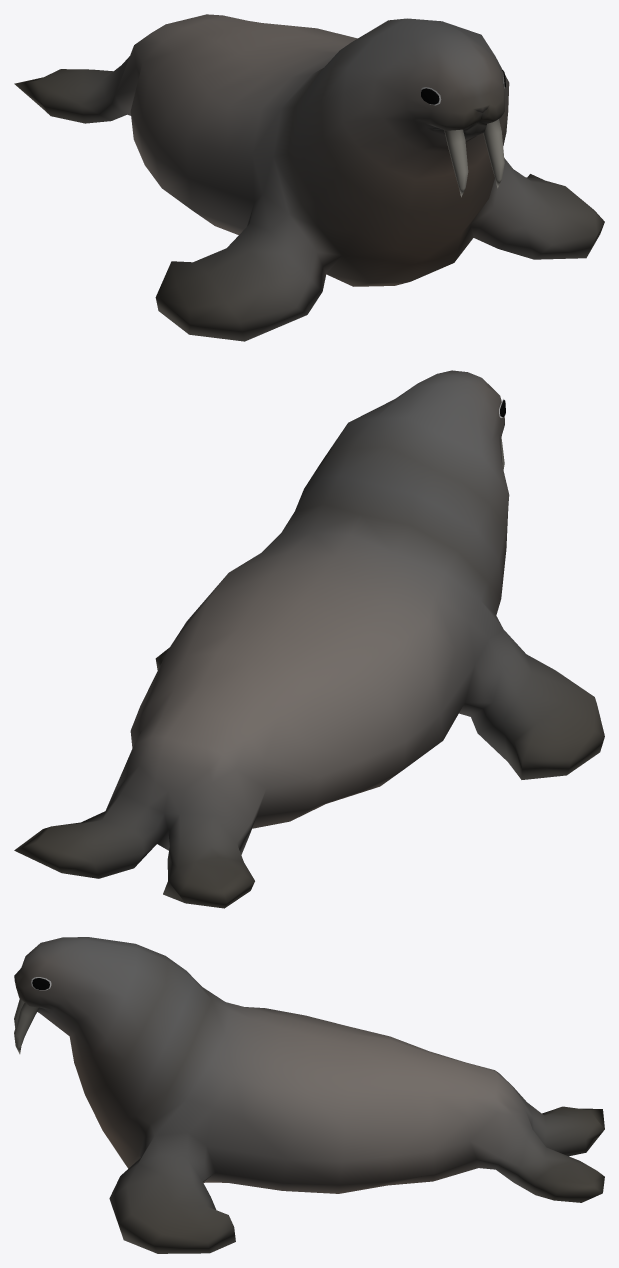
The model's file is kit-walrus.glb.
3 renders of one model, top to bottom at view 1: azimuth 30°, elevation 25°; view 2: azimuth 150°, elevation 25°; view 3: azimuth 270°, elevation 25°, orthographic. The views are drawn at different scales.
Parts seen in each view (by area): view 1: base; view 2: base; view 3: base.
Boxes of the visible parts, <box> form: base: <box>14,14,604,341</box>; base: <box>14,370,604,908</box>; base: <box>14,937,604,1253</box>.
Bounding box in the file's own units: 1.47 × 0.9695 × 2.23.
